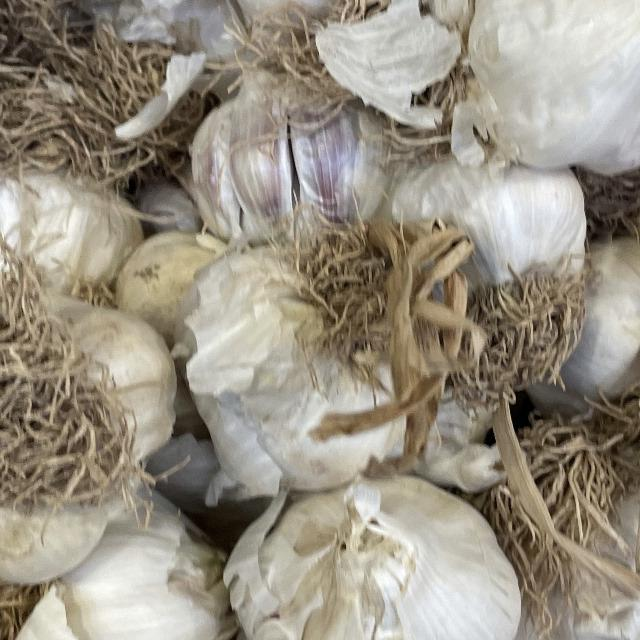garlic: (225, 440, 545, 640), (427, 0, 640, 175)
